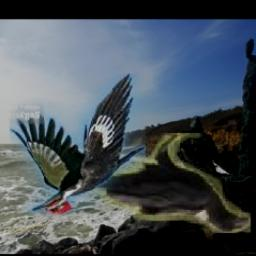Crow: (69, 134, 251, 234)
Woodpecker: (11, 73, 147, 215)
